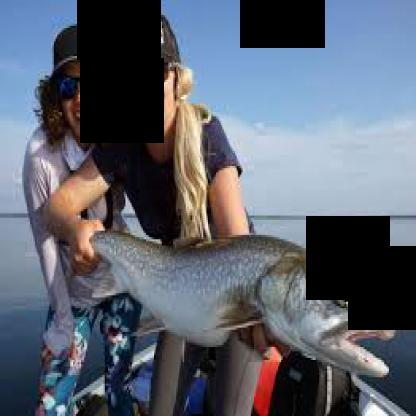fish: (46, 204, 393, 384)
